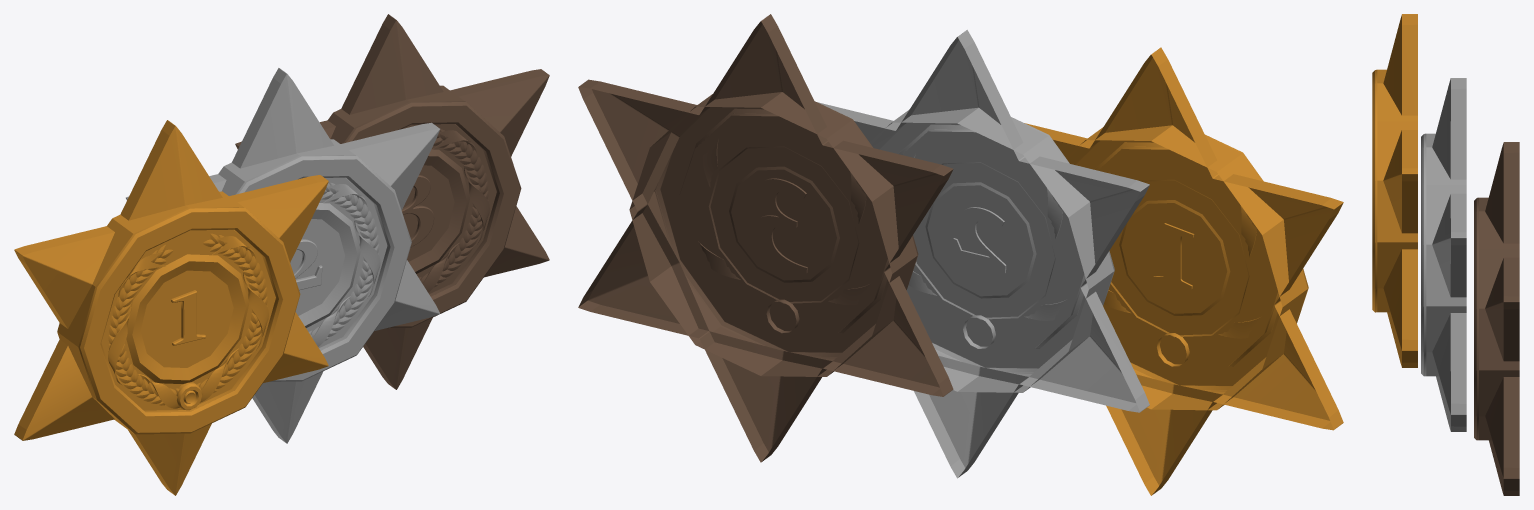
Rendered from award_star.FBX.
3 renders of one model, left to right at view 1: azimuth 30°, elevation 25°; view 2: azimuth 150°, elevation 25°; view 3: azimuth 270°, elevation 25°, orthographic. The views are drawn at different scales.
Visible parts, largest first — view 1: Star001, Star002, Star003, Cylinder213, Plane004, Plane005, Plane007, Plane009, Cylinder215, Cylinder217, Text003, Text001 (+2 smaller); view 2: Star003, Star002, Star001, Text003, Cylinder217, Text002, Cylinder215, Cylinder213, Text001, Plane009, Plane008, Plane004 (+1 smaller); view 3: Star003, Star002, Star001.
Part boxes in pixels (x1,y1,x2,y2): Star001: (14,120,328,495); Star002: (126,68,440,443); Star003: (235,14,549,389); Cylinder213: (126,254,249,383); Plane004: (108,244,179,408); Plane005: (196,233,268,402); Plane007: (308,182,380,346); Plane009: (419,129,489,292); Cylinder215: (298,203,360,327); Cylinder217: (409,149,469,273); Text003: (401,175,434,247); Text001: (171,290,205,345); Star003: (578,14,953,462); Star002: (817,30,1149,478); Star001: (1024,47,1343,495); Text003: (754,178,807,273); Cylinder217: (708,146,859,303); Text002: (953,207,1006,273); Cylinder215: (915,162,1055,319); Cylinder213: (1110,179,1249,337); Text001: (1153,223,1194,289); Plane009: (698,138,740,279); Plane008: (828,172,870,305); Plane004: (1218,205,1260,338); Star003: (1474,142,1519,495); Star002: (1421,78,1466,431); Star001: (1372,14,1417,367).
Size of the model in its own units: 704 by 429 by 162.
